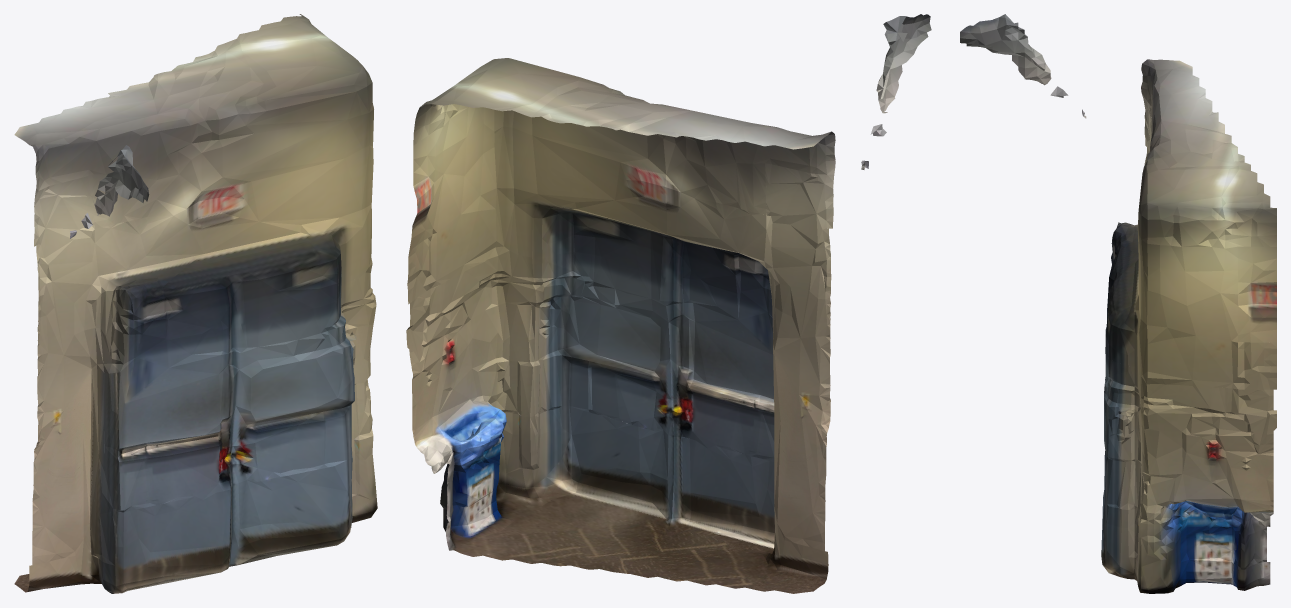
3 renders of one model, left to right at view 1: azimuth 30°, elevation 25°; view 2: azimuth 150°, elevation 25°; view 3: azimuth 270°, elevation 25°, orthographic. The views are drawn at different scales.
Parts seen in each view (by area): view 1: mesh; view 2: mesh; view 3: mesh.
Part boxes in pixels (x1=…): mesh: x1=14, y1=14, x2=377, y2=593; mesh: x1=406, y1=14, x2=931, y2=593; mesh: x1=960, y1=14, x2=1276, y2=593.
Bounding box in the file's own units: 2.77 × 3.78 × 2.45.
Materials: 1 (1 with a texture image).
